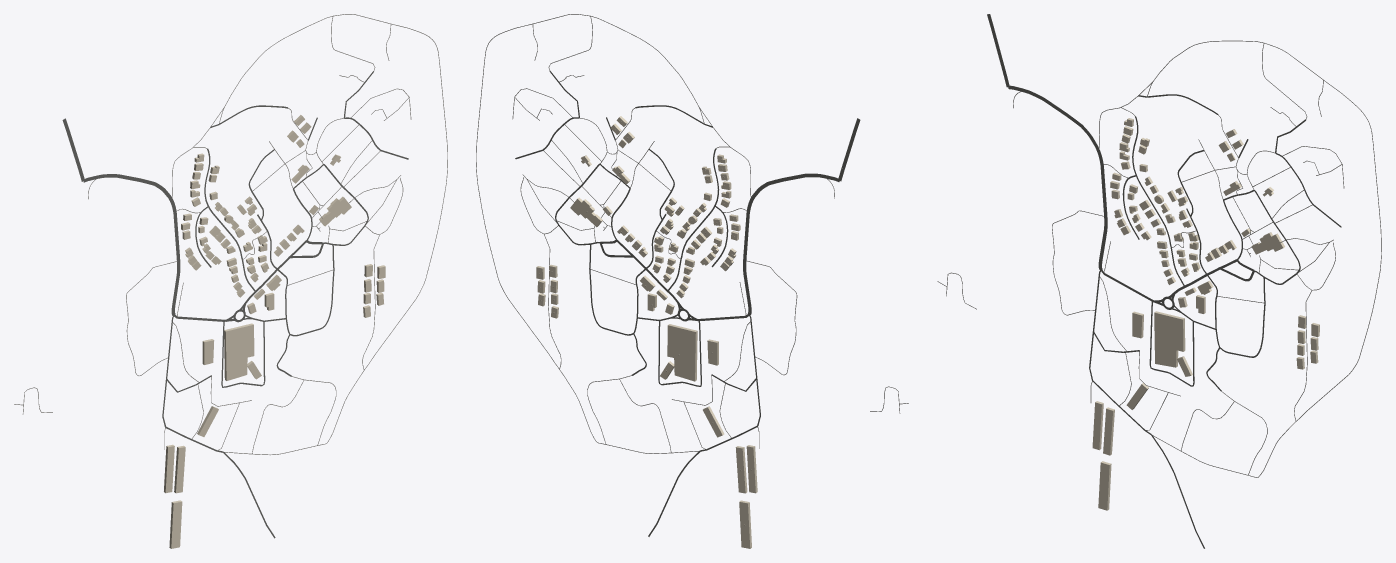
Rendered from historic-palestine-15_37_3565_3319.glb.
3 views of the same model, side by side, from view 1: azimuth 30°, elevation 25°; view 2: azimuth 150°, elevation 25°; view 3: azimuth 330°, elevation 25° (orthographic). The views are drawn at different scales.
Visible parts, largest first — view 1: Building_, Road 9891, Road .059, Building_.019; view 2: Building_, Road 9891, Road .059, Building_.019; view 3: Building_, Road 9891, Road .059, Building_.019.
Boxes of the visible parts, x1=… form: Building_: x1=224, y1=323, x2=254, y2=380; Road 9891: x1=83, y1=174, x2=180, y2=305; Road .059: x1=223, y1=36, x2=447, y2=455; Building_.019: x1=169, y1=500, x2=182, y2=548; Building_: x1=667, y1=324, x2=697, y2=381; Road 9891: x1=743, y1=173, x2=839, y2=304; Road .059: x1=476, y1=36, x2=698, y2=453; Building_.019: x1=739, y1=500, x2=751, y2=548; Building_: x1=1154, y1=311, x2=1185, y2=367; Road 9891: x1=1008, y1=85, x2=1107, y2=260; Road .059: x1=1153, y1=112, x2=1381, y2=477; Building_.019: x1=1098, y1=461, x2=1111, y2=510.
Size of the model in its own units: 1037 by 1161 by 8.7.
